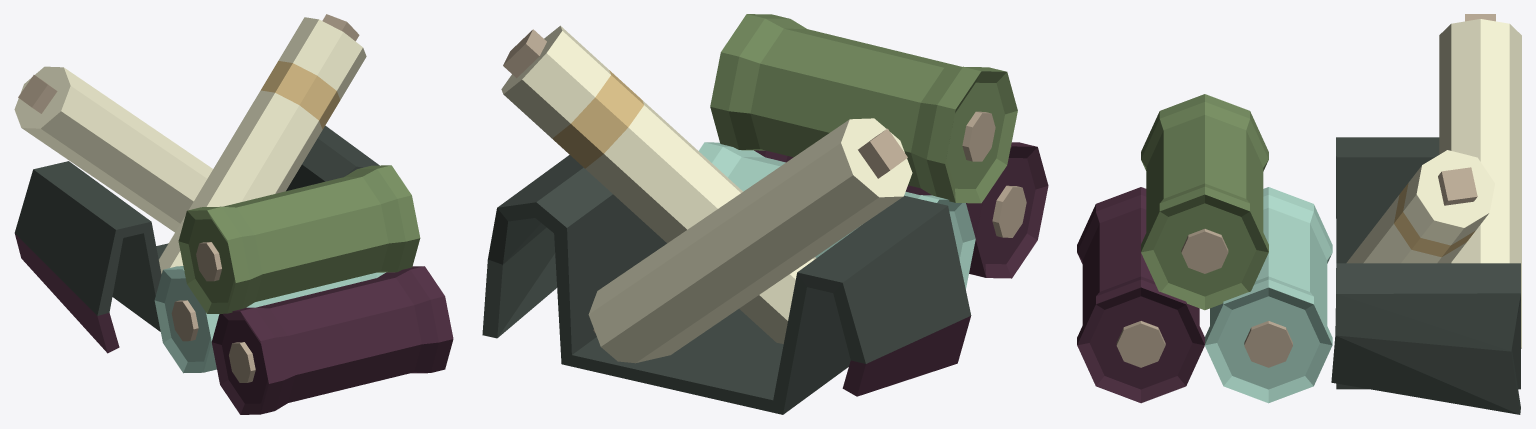
The model's file is Clothv1_ShallowCrate.fbx.
3 renders of one model, left to right at view 1: azimuth 30°, elevation 25°; view 2: azimuth 150°, elevation 25°; view 3: azimuth 270°, elevation 25°, orthographic. The views are drawn at different scales.
Parts seen in each view (by area): view 1: Cloth1; view 2: Cloth1; view 3: Cloth1.
Part boxes in pixels (x1,y1,x2,y2): Cloth1: (14,14,453,414); Cloth1: (482,14,1048,414); Cloth1: (1077,14,1521,414).
Bounding box in the file's own units: 152 × 108 × 161.
